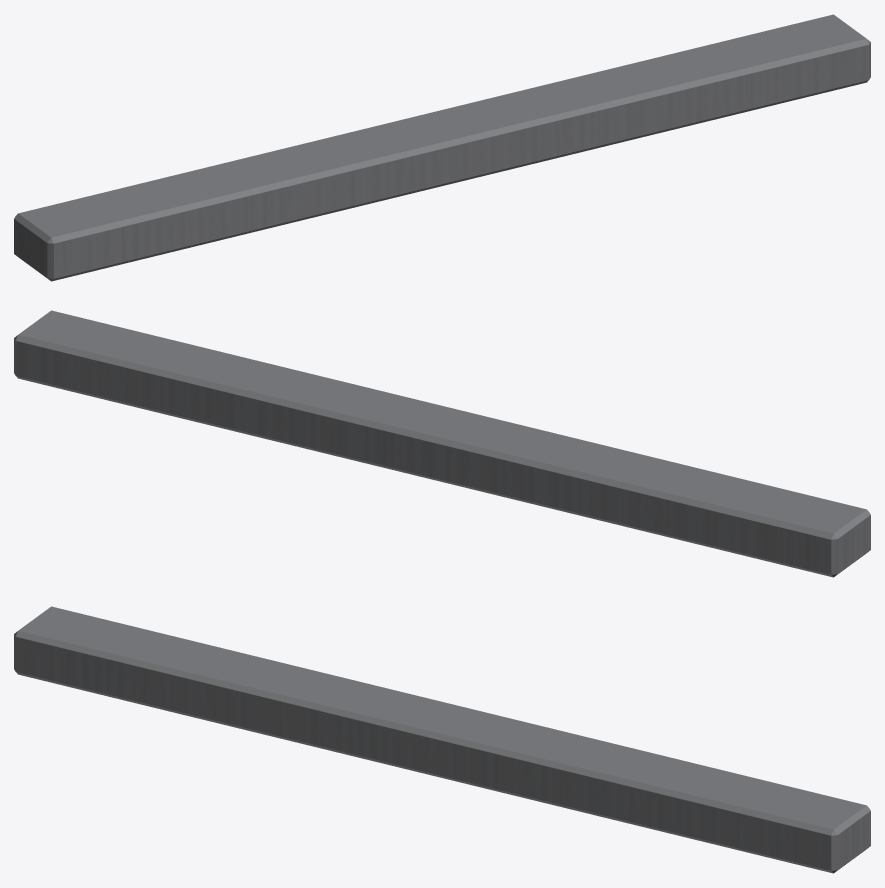
Rendered from nodexeus-set-edge-join.glb.
3 views of the same model, one above another, from view 1: azimuth 30°, elevation 25°; view 2: azimuth 150°, elevation 25°; view 3: azimuth 330°, elevation 25° (orthographic).
Parts seen in each view (by area): view 1: set-edge-join; view 2: set-edge-join; view 3: set-edge-join.
Part boxes in pixels (bbox=[...]): set-edge-join: bbox=[14, 14, 870, 281]; set-edge-join: bbox=[14, 310, 870, 577]; set-edge-join: bbox=[14, 606, 870, 873].
Bounding box in the file's own units: 2.75 × 0.14 × 0.22.
Materials: 1 (1 with a texture image).
